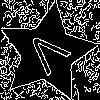V: (22, 27, 78, 84)
